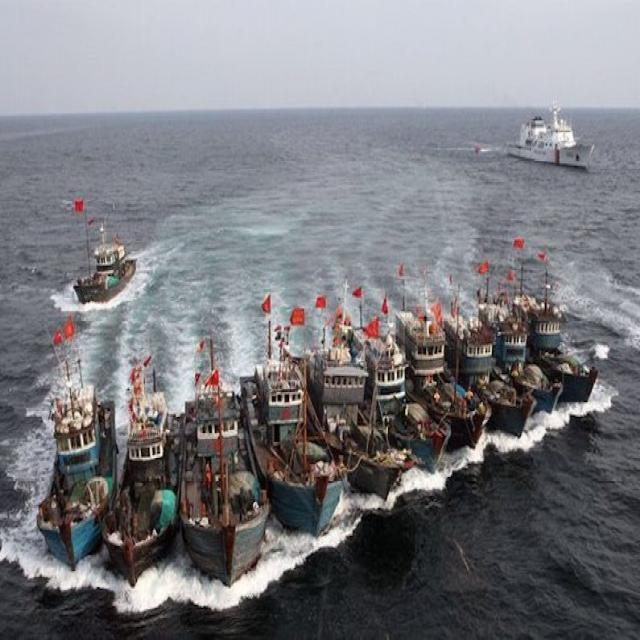Ship: (243, 303, 352, 550), (176, 336, 275, 590), (104, 354, 187, 583), (311, 321, 409, 508), (352, 304, 454, 483), (45, 367, 127, 574), (399, 307, 496, 461), (445, 301, 539, 446), (516, 276, 604, 405), (491, 301, 567, 421), (65, 215, 147, 324)
